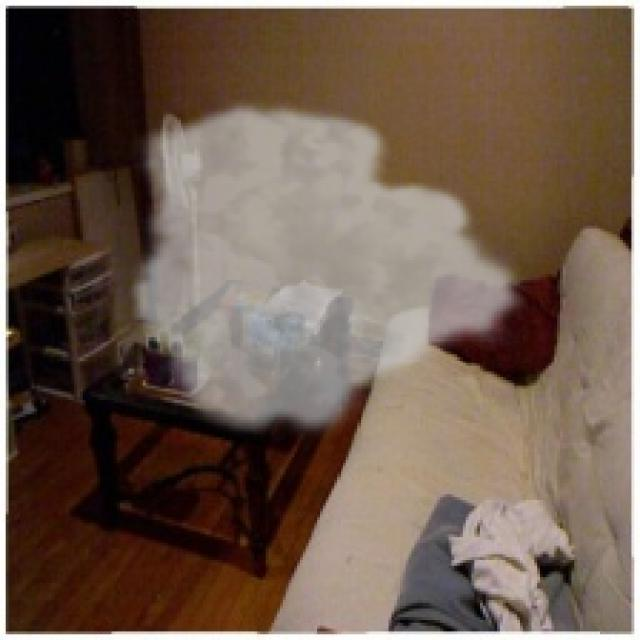Smoke: (126, 97, 528, 443)
